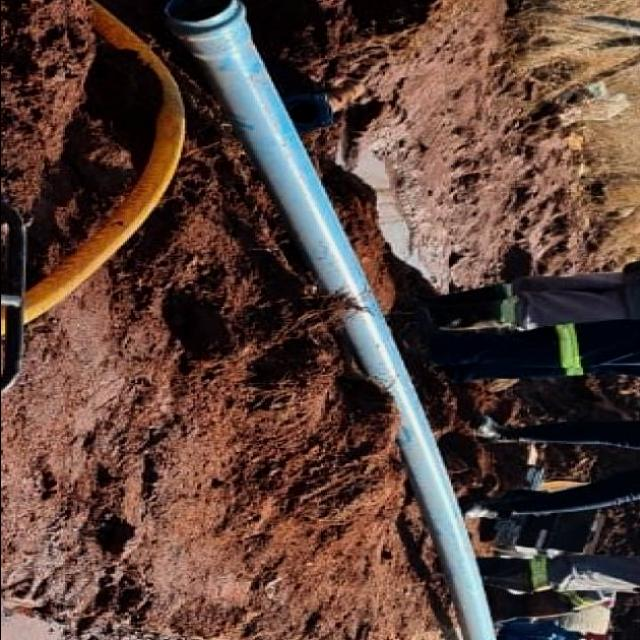gas: (163, 0, 493, 640)
